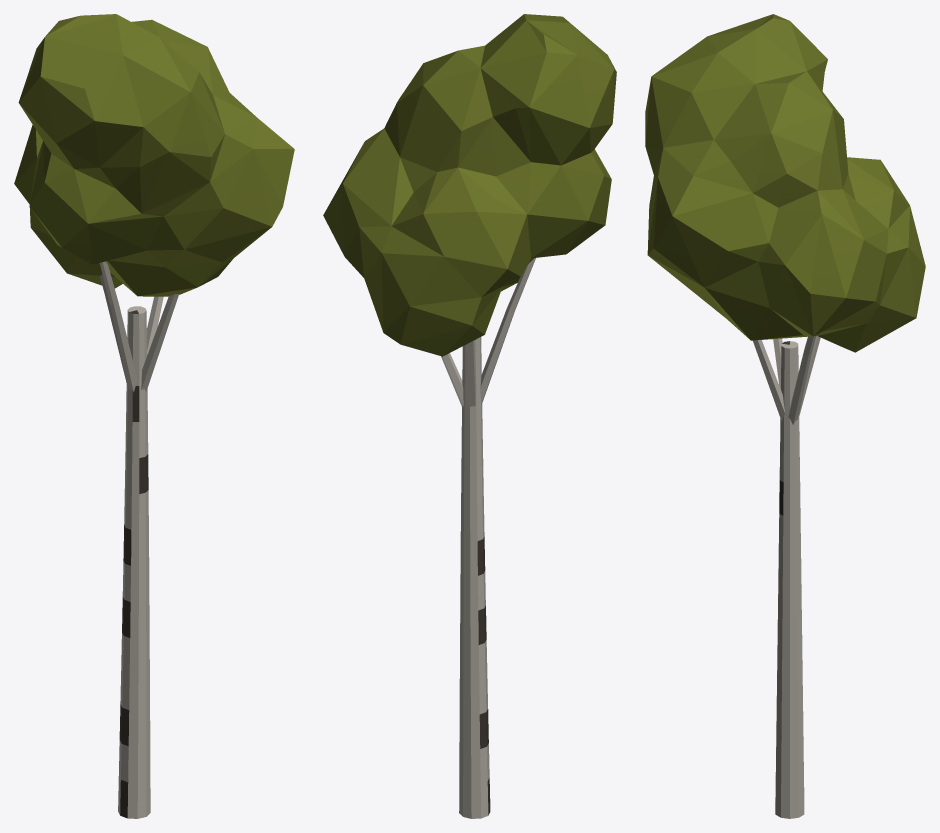
Rendered from BirchB.glb.
The picture shows the model from 3 angles, left to right: view 1: azimuth 30°, elevation 25°; view 2: azimuth 150°, elevation 25°; view 3: azimuth 270°, elevation 25°; orthographic projection. The views are drawn at different scales.
Visible parts, largest first — view 1: BirchB_LOD0; view 2: BirchB_LOD0; view 3: BirchB_LOD0.
Boxes of the visible parts, x1=… form: BirchB_LOD0: x1=14, y1=14, x2=294, y2=818; BirchB_LOD0: x1=323, y1=14, x2=616, y2=818; BirchB_LOD0: x1=645, y1=14, x2=925, y2=818.
Size of what is drawn, in the model's own units: 2.37 by 7.52 by 2.49.
